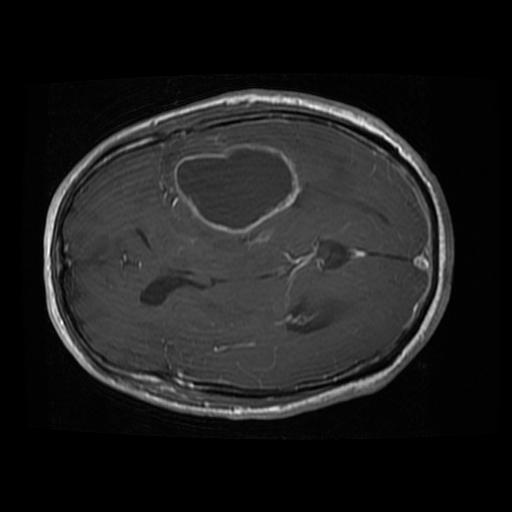glioma: (170, 141, 301, 234)
